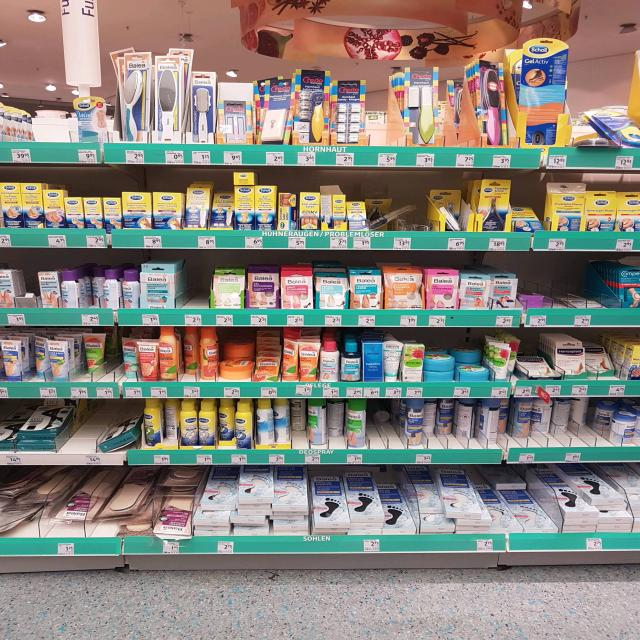unorganised: (200, 477, 309, 539), (410, 467, 497, 533), (259, 81, 289, 146), (72, 96, 110, 145), (255, 399, 289, 446), (96, 420, 140, 453), (580, 491, 629, 520), (426, 193, 462, 232), (368, 201, 417, 228), (512, 397, 536, 444), (424, 400, 453, 438), (80, 334, 106, 373), (326, 398, 347, 443), (480, 400, 500, 446), (288, 397, 308, 443), (585, 346, 613, 377), (120, 338, 140, 381), (211, 193, 234, 230), (182, 326, 198, 379), (494, 472, 529, 496), (30, 335, 49, 378), (217, 398, 235, 442), (458, 399, 476, 440), (533, 398, 551, 437), (163, 400, 180, 440), (571, 397, 590, 432), (87, 272, 105, 308), (554, 400, 570, 438), (507, 339, 520, 380), (499, 400, 512, 439)
